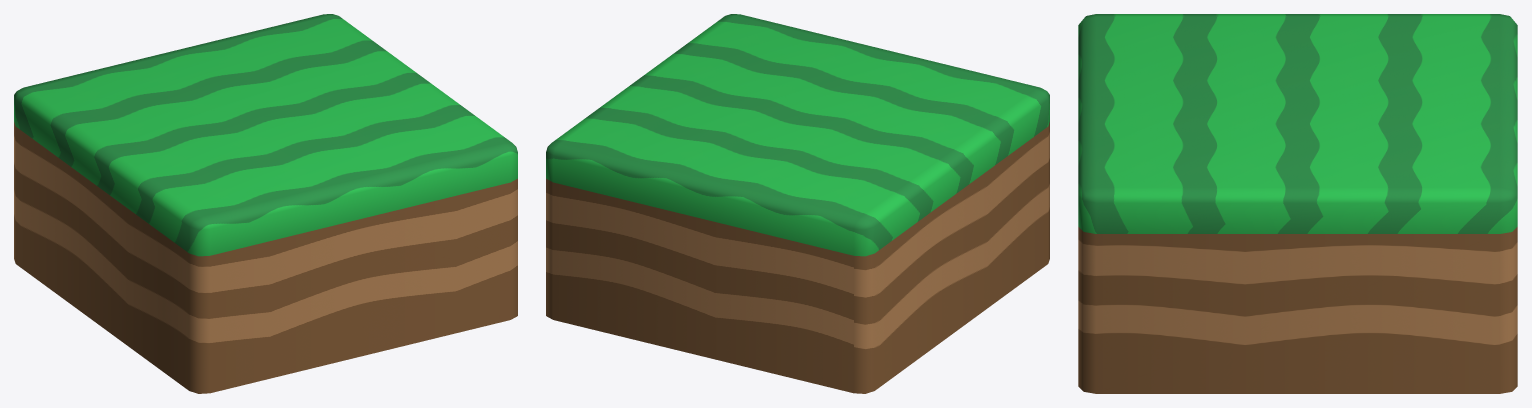
The model's file is Platform_F_2.fbx.
3 renders of one model, left to right at view 1: azimuth 30°, elevation 25°; view 2: azimuth 150°, elevation 25°; view 3: azimuth 270°, elevation 25°, orthographic. The views are drawn at different scales.
Parts seen in each view (by area): view 1: Platform_F_1; view 2: Platform_F_1; view 3: Platform_F_1.
Boxes of the visible parts, box(x1,y1,x2,y2) form: Platform_F_1: box(14, 14, 517, 393); Platform_F_1: box(546, 14, 1049, 393); Platform_F_1: box(1078, 14, 1517, 393).
Bounding box in the file's own units: 8 × 4 × 8.
